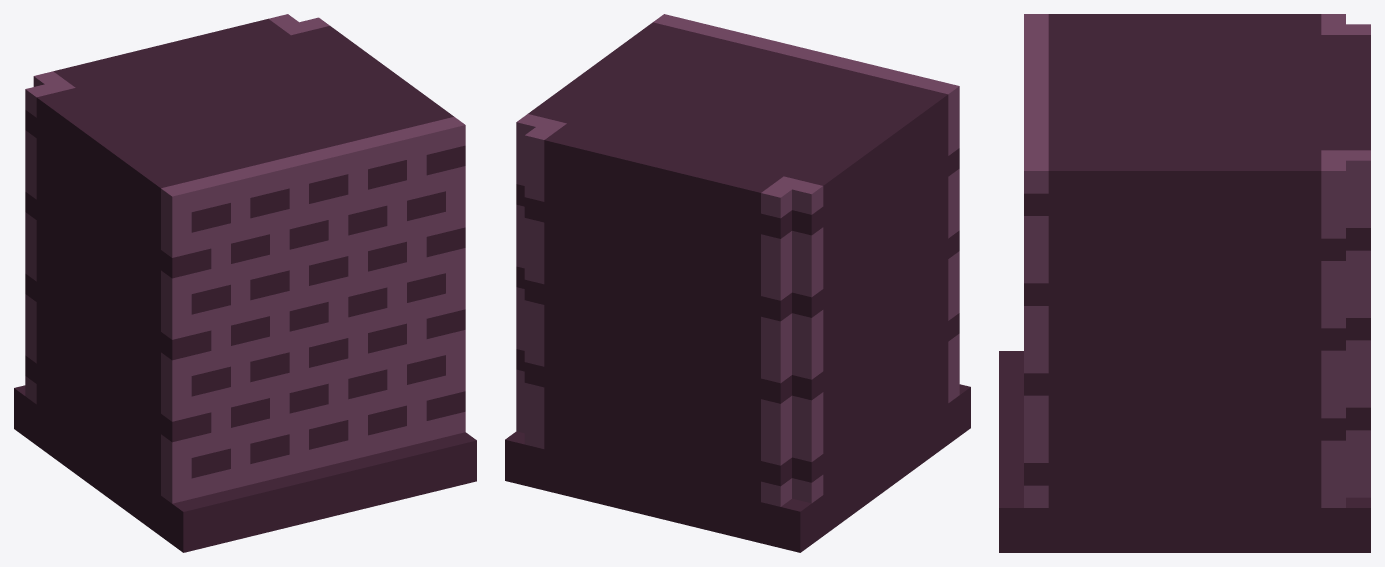
File: dungeon_c_b_inner_wall_segment_b.obj
3 renders of one model, left to right at view 1: azimuth 30°, elevation 25°; view 2: azimuth 150°, elevation 25°; view 3: azimuth 270°, elevation 25°, orthographic. The views are drawn at different scales.
Bounding box in the file's own units: 1.5 × 1.7 × 1.5.
Materials: 1 (1 with a texture image).
